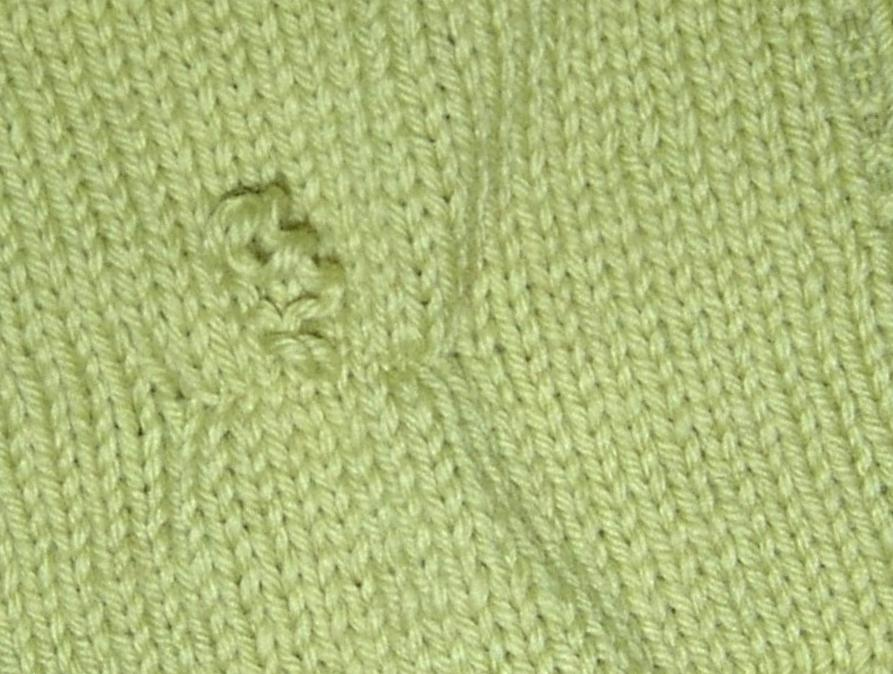knot: (207, 173, 355, 390)
